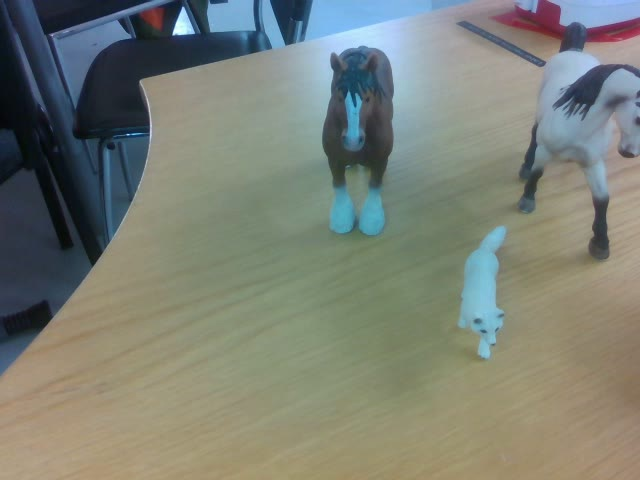toy: (517, 21, 640, 261), (324, 46, 394, 235), (456, 226, 507, 366)
